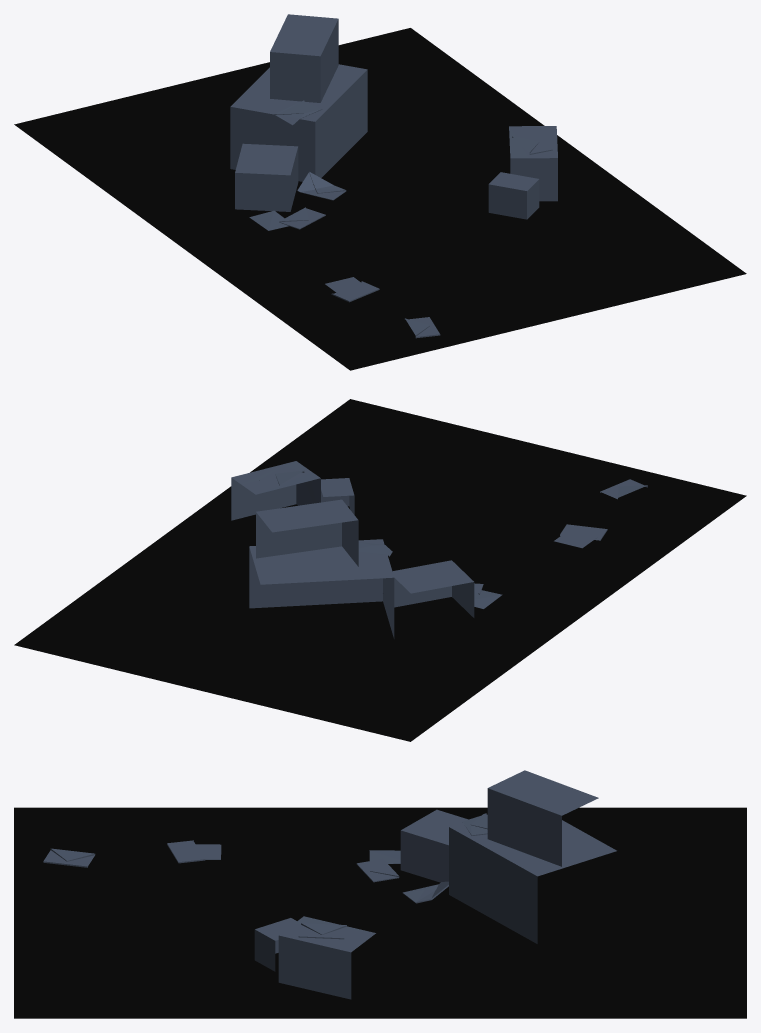
File: contact.glb
3 views of the same model, one above another, from view 1: azimuth 30°, elevation 25°; view 2: azimuth 150°, elevation 25°; view 3: azimuth 270°, elevation 25° (orthographic). The views are drawn at different scales.
Visible parts, largest first — view 1: shadow-catcher, base; view 2: shadow-catcher, base; view 3: shadow-catcher, base.
Part boxes in pixels (bbox=[...]): shadow-catcher: bbox=[14, 28, 746, 370]; base: bbox=[230, 14, 557, 338]; shadow-catcher: bbox=[14, 399, 746, 741]; base: bbox=[231, 461, 647, 638]; shadow-catcher: bbox=[14, 807, 746, 1018]; base: bbox=[43, 770, 616, 999].
Bounding box in the file's own units: 8.21 × 2.17 × 12.06.
